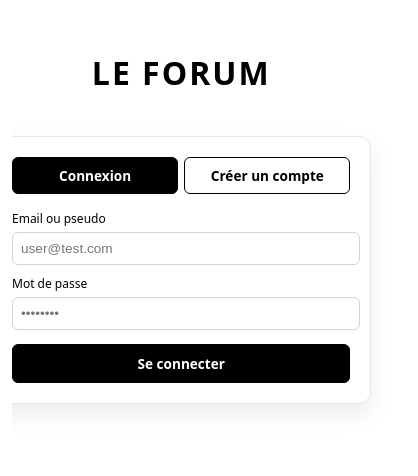
Test: AuthPage - tests front sans backend › si le signup échoue, on affiche le message d'erreur d'inscription
Click the button "Créer un compte": (267, 176) left=184, top=157, right=350, bottom=194
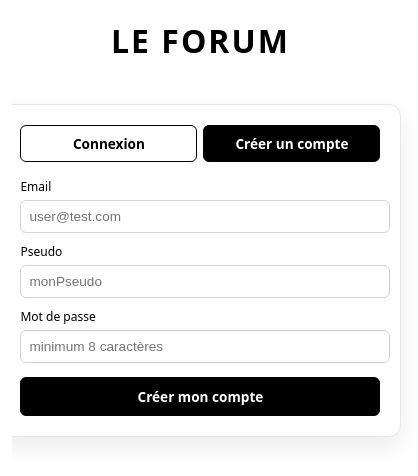
In the field labelled "Email": (205, 216) left=20, top=200, right=390, bottom=232, type "new@user.com"
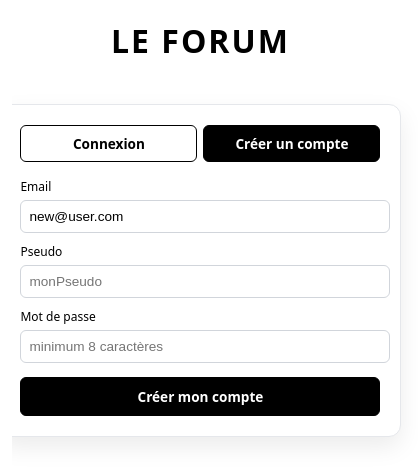
In the field labelled "Pseudo": (205, 281) left=20, top=264, right=390, bottom=298, type "newuser"
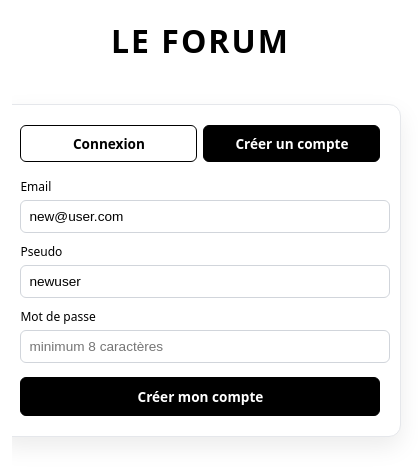
In the password field labelled "Mot de passe": (205, 346) left=20, top=330, right=390, bottom=362, type "Password123!"
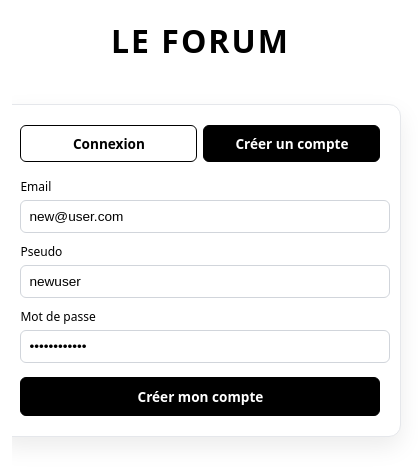
Submit the form, box left=20, top=178, right=380, bottom=416
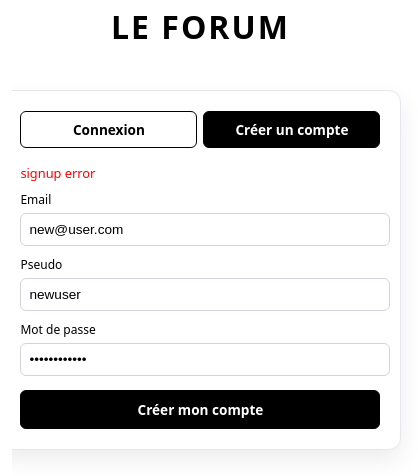
Expected: the text "signup error" is shown, left=20, top=164, right=95, bottom=182
